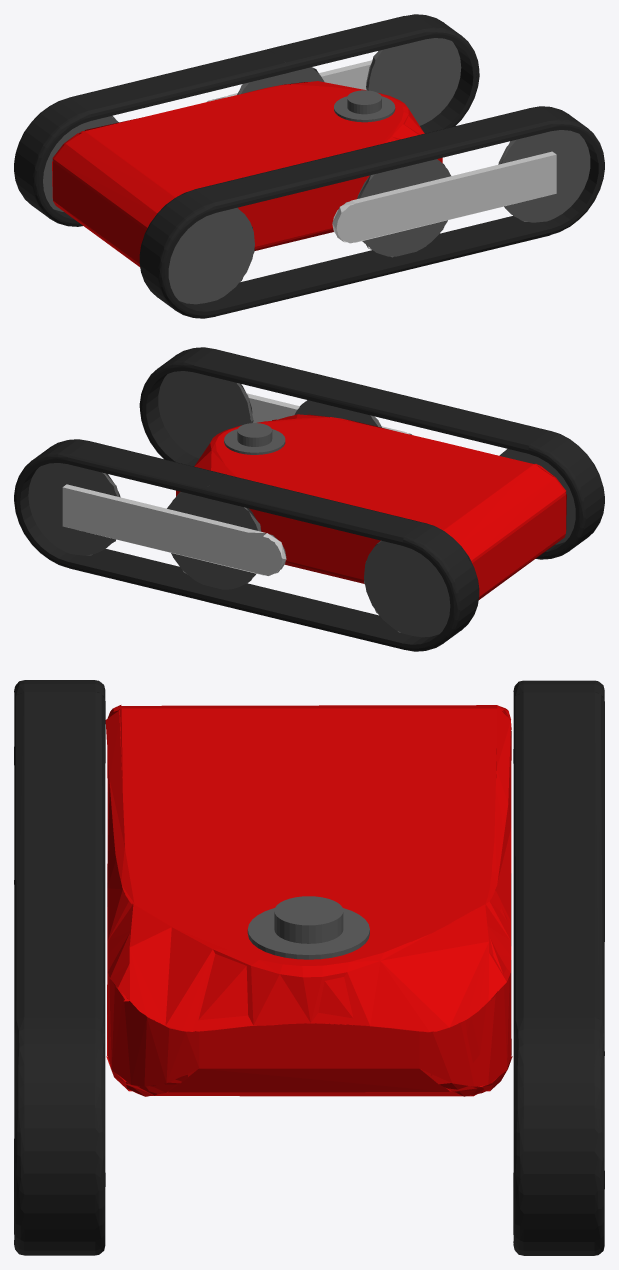
The model's file is tracker_chassis.dae.
3 views of the same model, one above another, from view 1: azimuth 30°, elevation 25°; view 2: azimuth 150°, elevation 25°; view 3: azimuth 270°, elevation 25° (orthographic). The views are drawn at different scales.
Parts seen in each view (by area): view 1: body, wheels_right_bar, wheels_right_rear, wheels_left_chain_top_back, wheels_right_chain_top_back, wheels_left_front, wheels_right_chain_bottom_back, wheels_right_front, wheels_right_chain_back, wheels_left_chain_back, wheels_left_chain_top_front, wheels_right_chain_top_front (+8 smaller); view 2: body, wheels_left_bar, wheels_left_rear, wheels_left_chain_top_back, wheels_right_chain_top_back, wheels_right_front, wheels_left_chain_bottom_back, wheels_left_front, wheels_left_chain_back, wheels_right_chain_back, wheels_right_chain_top_front, wheels_left_chain_top_front (+8 smaller); view 3: body, wheels_right_chain_front, wheels_left_chain_front, wheels_right_chain_top_back, wheels_left_chain_top_back, wheels_right_chain_top_front, wheels_left_chain_top_front, arm_base_plate, wheels_left_chain_back, wheels_right_chain_back.
Boxes of the visible parts, box(x1,y1,x2,y2) form: body: box(52, 81, 442, 267); wheels_right_bar: box(332, 151, 556, 243); wheels_right_rear: box(168, 207, 254, 304); wheels_left_chain_top_back: box(69, 49, 288, 120); wheels_right_chain_top_back: box(195, 141, 414, 212); wheels_left_front: box(366, 38, 461, 125); wheels_right_chain_bottom_back: box(206, 250, 415, 316); wheels_right_front: box(498, 130, 590, 222); wheels_right_chain_back: box(139, 189, 216, 318); wheels_left_chain_back: box(14, 97, 90, 226); wheels_left_chain_top_front: box(267, 16, 425, 72); wheels_right_chain_top_front: box(394, 108, 551, 164); body: box(176, 414, 566, 599); wheels_left_bar: box(62, 484, 286, 575); wheels_left_rear: box(364, 540, 450, 637); wheels_left_chain_top_back: box(204, 474, 422, 545); wheels_right_chain_top_back: box(330, 382, 548, 453); wheels_right_front: box(158, 371, 253, 458); wheels_left_chain_bottom_back: box(203, 583, 412, 649); wheels_left_front: box(28, 463, 120, 555); wheels_left_chain_back: box(402, 522, 479, 651); wheels_right_chain_back: box(528, 430, 604, 559); wheels_right_chain_top_front: box(193, 349, 351, 405); wheels_left_chain_top_front: box(67, 441, 226, 497); body: box(105, 705, 512, 1096); wheels_right_chain_front: box(14, 1017, 105, 1255); wheels_left_chain_front: box(513, 1017, 604, 1255); wheels_right_chain_top_back: box(14, 692, 105, 892); wheels_left_chain_top_back: box(513, 692, 604, 893); wheels_right_chain_top_front: box(14, 884, 105, 1025); wheels_left_chain_top_front: box(513, 885, 604, 1025); arm_base_plate: box(247, 896, 369, 959); wheels_left_chain_back: box(513, 680, 604, 763); wheels_right_chain_back: box(14, 680, 105, 884).
Size of the model in its own units: 1.01 by 0.5805 by 0.2467.
